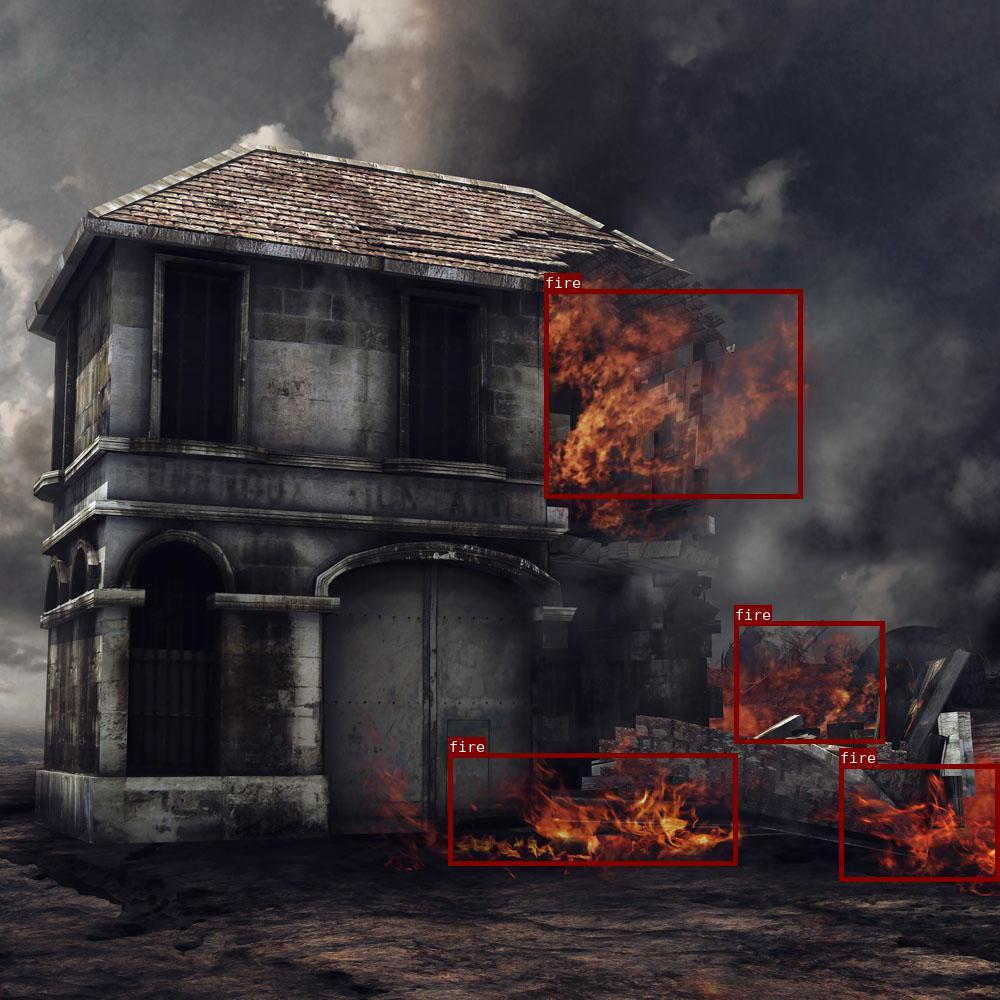fire: (543, 289, 801, 498), (447, 752, 737, 865), (838, 764, 998, 880), (733, 621, 884, 742)
